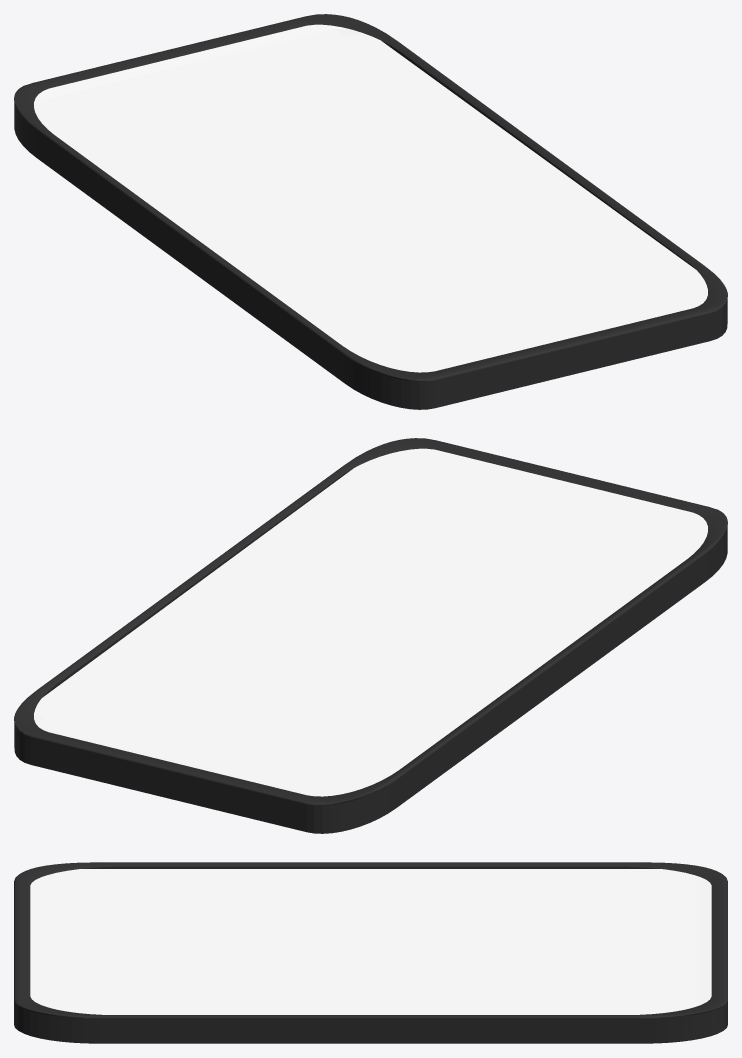
The model's file is phone5.gltf.
3 views of the same model, one above another, from view 1: azimuth 30°, elevation 25°; view 2: azimuth 150°, elevation 25°; view 3: azimuth 270°, elevation 25° (orthographic). The views are drawn at different scales.
Visible parts, largest first — view 1: Plane, Cube.001; view 2: Plane, Cube.001; view 3: Plane, Cube.001.
Boxes of the visible parts, x1,y1,x2,y2 form: Plane: [34, 24, 707, 372]; Cube.001: [14, 14, 727, 409]; Plane: [34, 448, 707, 796]; Cube.001: [14, 438, 727, 833]; Plane: [30, 869, 711, 1014]; Cube.001: [14, 862, 727, 1043].
Bounding box in the file's own units: 1.03 × 0.0928 × 2.
2 materials, 1 textured.
